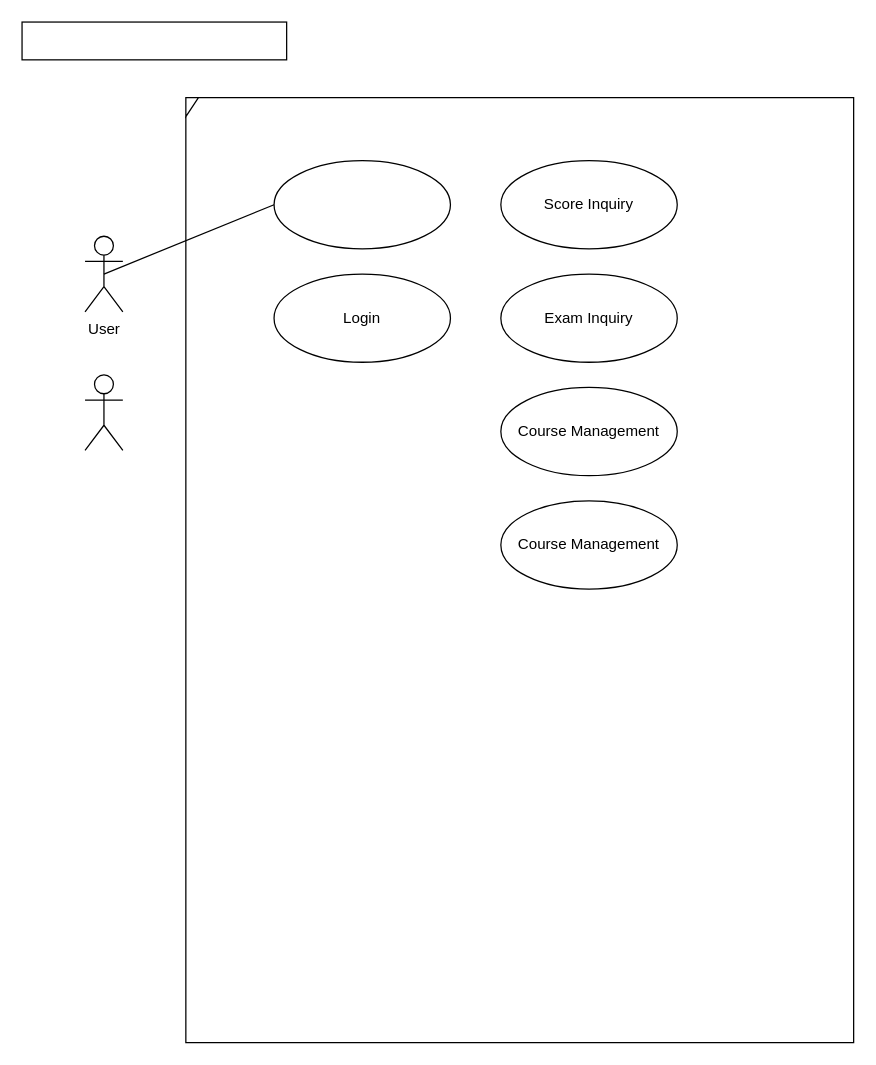
Image size: 876x1065. Some labels were removed from this diagram. Each missing label, with the centre of its shape:
"Admin" goes at point (103, 412).
"NUIST Credit Management System" goes at point (154, 40).
"Registration" goes at point (361, 204).
